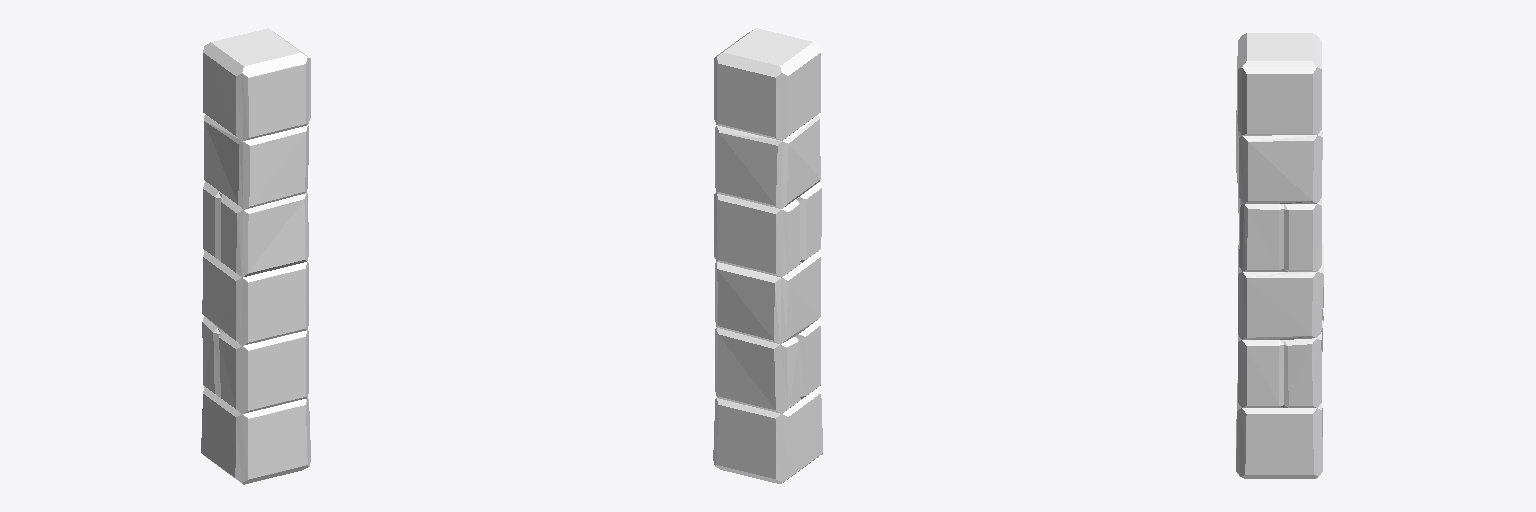
The model's file is Wall1_Pillar_H1.0.obj.
3 renders of one model, left to right at view 1: azimuth 30°, elevation 25°; view 2: azimuth 150°, elevation 25°; view 3: azimuth 270°, elevation 25°, orthographic.
Visible parts, largest first — view 1: Box001; view 2: Box001; view 3: Box001.
Boxes of the visible parts, x1,y1,x2,y2 form: Box001: [201, 28, 310, 484]; Box001: [713, 28, 822, 483]; Box001: [1236, 33, 1323, 478].
Bounding box in the file's own units: 0.5831 × 3.06 × 0.5862.